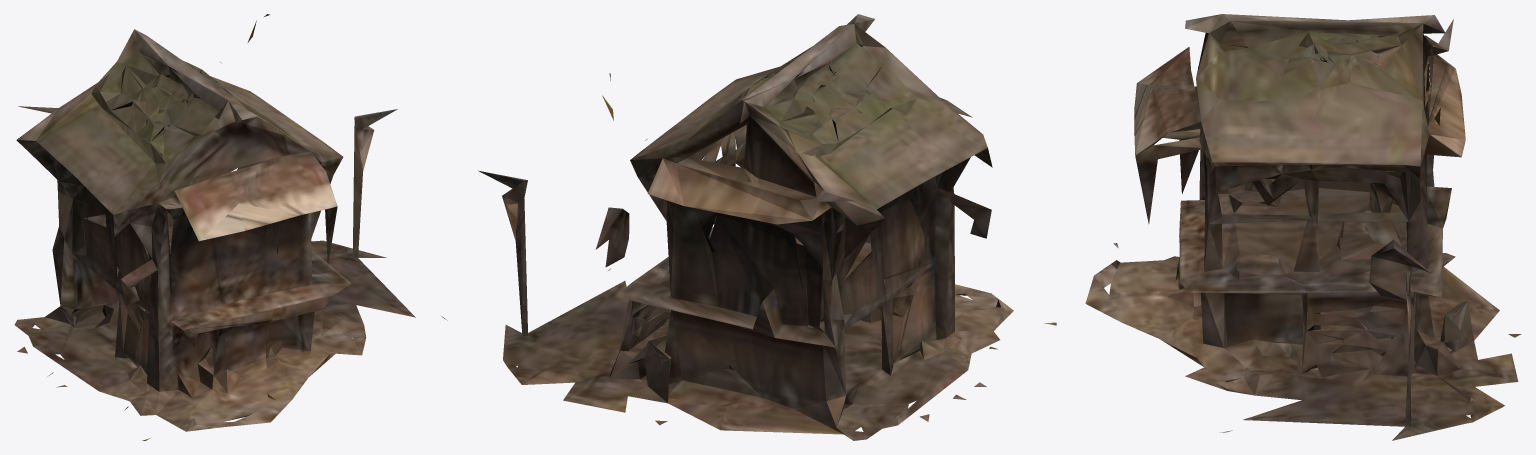
Rendered from hut_mossy_ruined_a_lod1.glb.
3 views of the same model, side by side, from view 1: azimuth 30°, elevation 25°; view 2: azimuth 150°, elevation 25°; view 3: azimuth 270°, elevation 25° (orthographic). The views are drawn at different scales.
Visible parts, largest first — view 1: hut_mossy_ruined_a_lod1; view 2: hut_mossy_ruined_a_lod1; view 3: hut_mossy_ruined_a_lod1.
Part boxes in pixels (left/top/right/bottom): hut_mossy_ruined_a_lod1: left=14, top=14, right=447, bottom=440; hut_mossy_ruined_a_lod1: left=478, top=14, right=1056, bottom=440; hut_mossy_ruined_a_lod1: left=1085, top=14, right=1521, bottom=440.
Size of the model in its own units: 4.8 by 3.16 by 4.11.
1 material, 1 textured.
